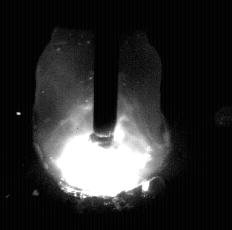arame: (94, 0, 118, 147)
poca: (34, 0, 172, 230)
